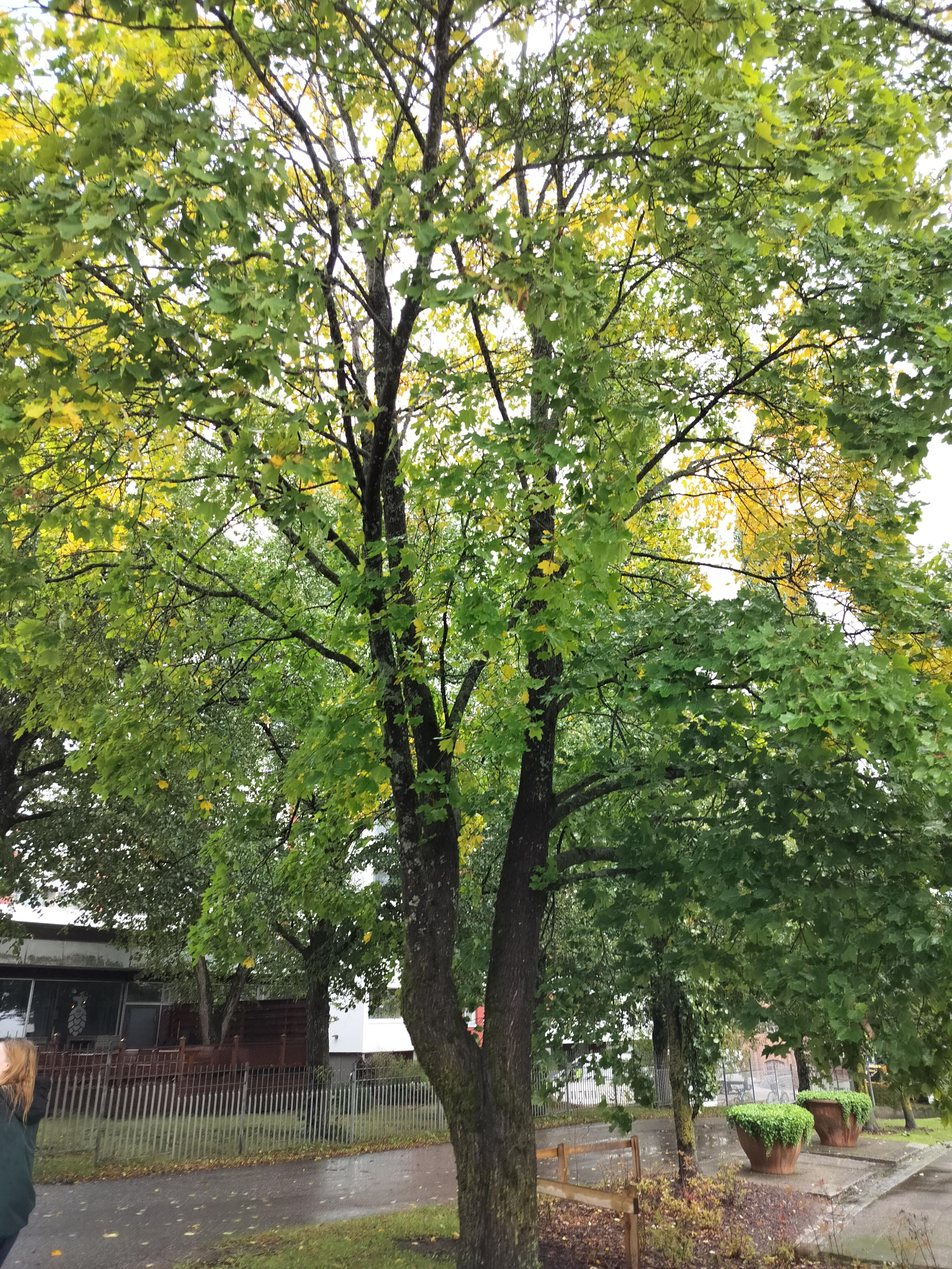Maple: (1, 0, 951, 1266)
